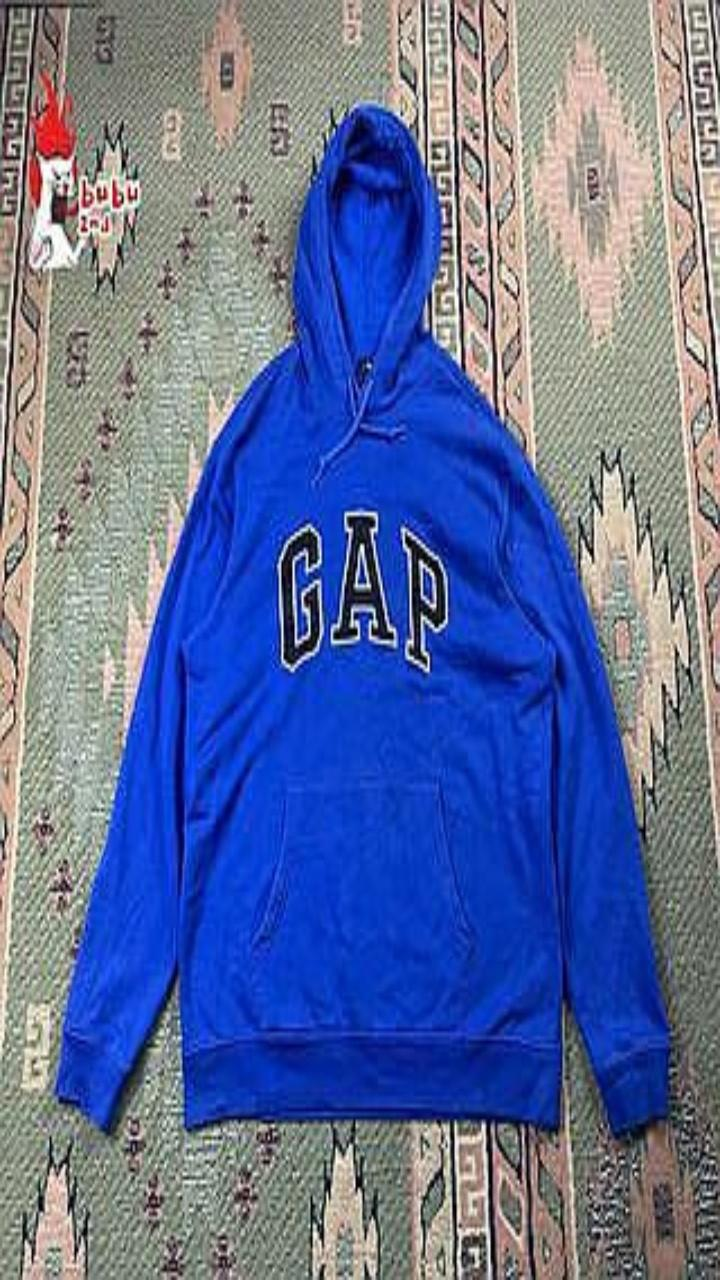Hoodie: (55, 102, 668, 1133)
